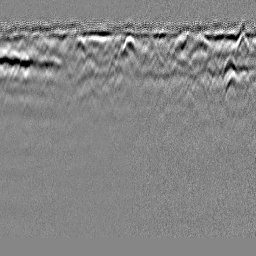cavity: (121, 35, 141, 58)
